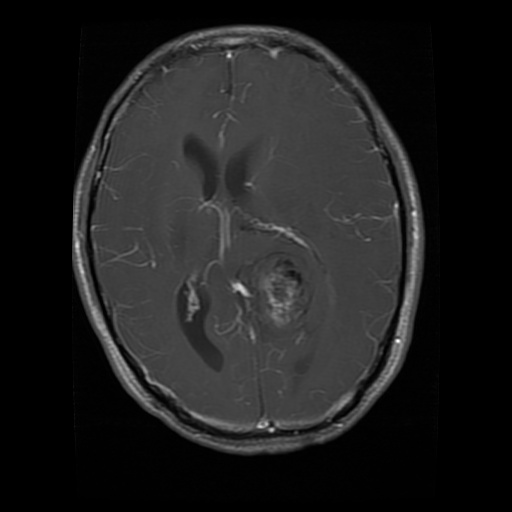glioma: (225, 249, 328, 344)
